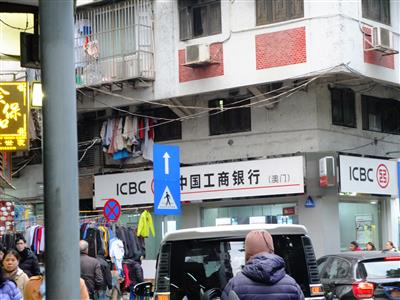oneway: (150, 142, 184, 179)
pedestrianCrossing: (151, 178, 183, 216)
